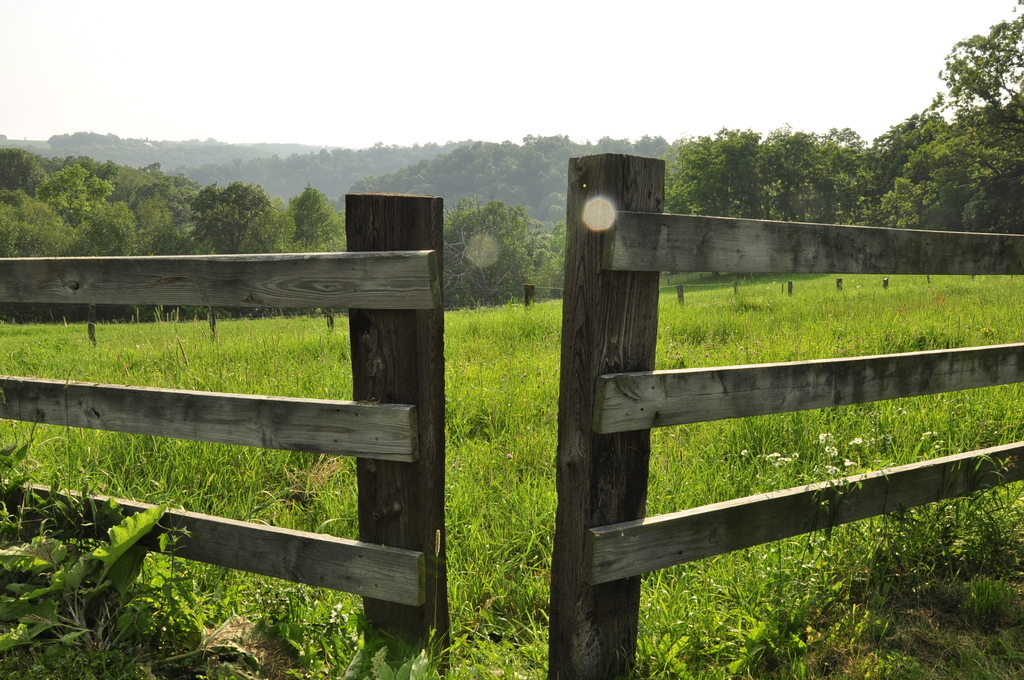Tree: (665, 0, 1024, 231), (0, 148, 344, 253), (350, 134, 674, 222), (182, 143, 472, 197)
